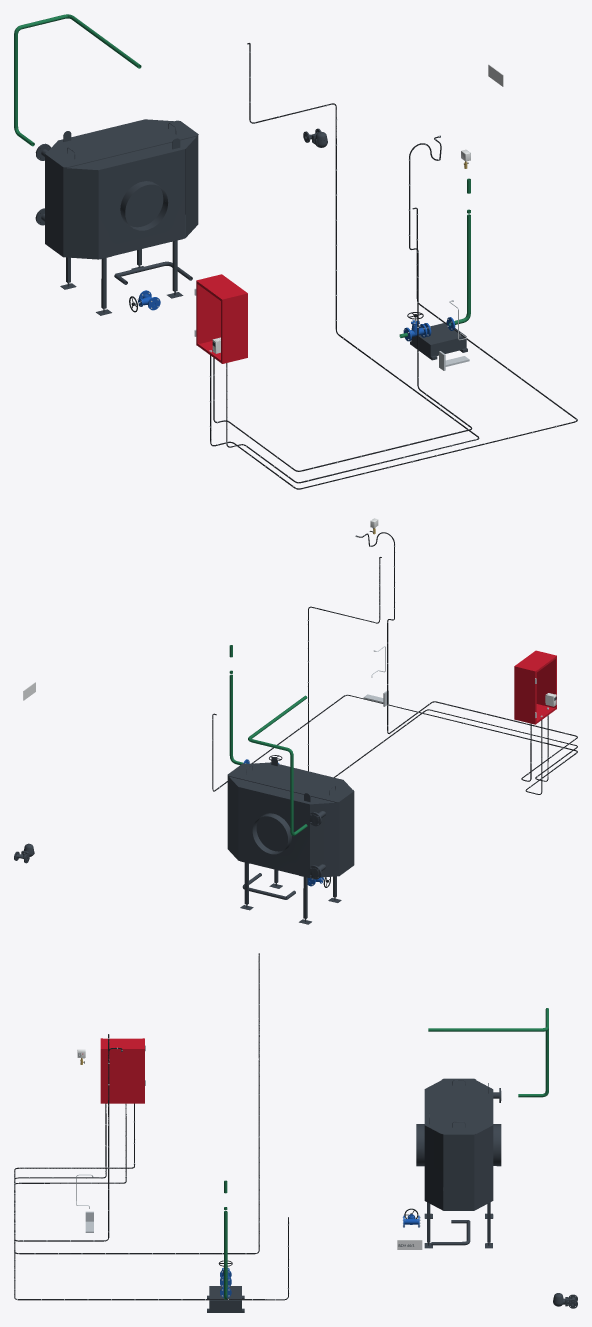
File: s4000-2-BjrzM9jB.glb
3 views of the same model, one above another, from view 1: azimuth 30°, elevation 25°; view 2: azimuth 150°, elevation 25°; view 3: azimuth 270°, elevation 25° (orthographic). The views are drawn at different scales.
Parts seen in each view (by area): view 1: EQS2-4000 CAD 0, EQS2-4000 CAD 3, control_cabinet / control_cabinet_0.npz, EQS2-4000 CAD 1, gpz_drive_cable / black, wiring_pressure_transmitter / black, wiring_pump_2 / black, pump_branch_1 / dark, from_economizer / green, pump_branch_1 / green; view 2: EQS2-4000 CAD 0, EQS2-4000 CAD 3, control_cabinet / control_cabinet_0.npz, EQS2-4000 CAD 2, gpz_drive_cable / black, wiring_pressure_transmitter / black, wiring_pump_2 / black, from_economizer / green; view 3: EQS2-4000 CAD 3, control_cabinet / control_cabinet_0.npz, gpz_drive_cable / black, EQS2-4000 CAD 0, wiring_pump_2 / black, wiring_pressure_transmitter / black, from_economizer / green, pump_branch_1 / dark.
Part boxes in pixels (left/top/right/bottom): EQS2-4000 CAD 0: left=60, top=149, right=185, bottom=315; EQS2-4000 CAD 3: left=45, top=119, right=198, bottom=256; control_cabinet / control_cabinet_0.npz: left=194, top=274, right=247, bottom=363; EQS2-4000 CAD 1: left=63, top=168, right=98, bottom=259; gpz_drive_cable / black: left=226, top=43, right=479, bottom=483; wiring_pressure_transmitter / black: left=213, top=136, right=472, bottom=471; wiring_pump_2 / black: left=210, top=207, right=577, bottom=489; pump_branch_1 / dark: left=410, top=322, right=467, bottom=360; from_economizer / green: left=14, top=14, right=141, bottom=146; pump_branch_1 / green: left=399, top=178, right=470, bottom=337; EQS2-4000 CAD 0: left=238, top=787, right=341, bottom=924; EQS2-4000 CAD 3: left=227, top=757, right=354, bottom=875; control_cabinet / control_cabinet_0.npz: left=514, top=650, right=556, bottom=724; EQS2-4000 CAD 2: left=308, top=802, right=339, bottom=879; gpz_drive_cable / black: left=308, top=557, right=577, bottom=781; wiring_pressure_transmitter / black: left=357, top=532, right=577, bottom=781; wiring_pump_2 / black: left=212, top=694, right=577, bottom=794; from_economizer / green: left=248, top=695, right=307, bottom=835; EQS2-4000 CAD 3: left=424, top=1078, right=493, bottom=1210; control_cabinet / control_cabinet_0.npz: left=100, top=1038, right=145, bottom=1103; gpz_drive_cable / black: left=14, top=953, right=259, bottom=1254; EQS2-4000 CAD 0: left=416, top=1124, right=501, bottom=1248; wiring_pump_2 / black: left=14, top=1104, right=288, bottom=1300; wiring_pressure_transmitter / black: left=14, top=1034, right=134, bottom=1241; from_economizer / green: left=428, top=1008, right=548, bottom=1097; pump_branch_1 / dark: left=207, top=1286, right=244, bottom=1312.
Bounding box in the file's own units: 5.38 × 3.71 × 6.74.
